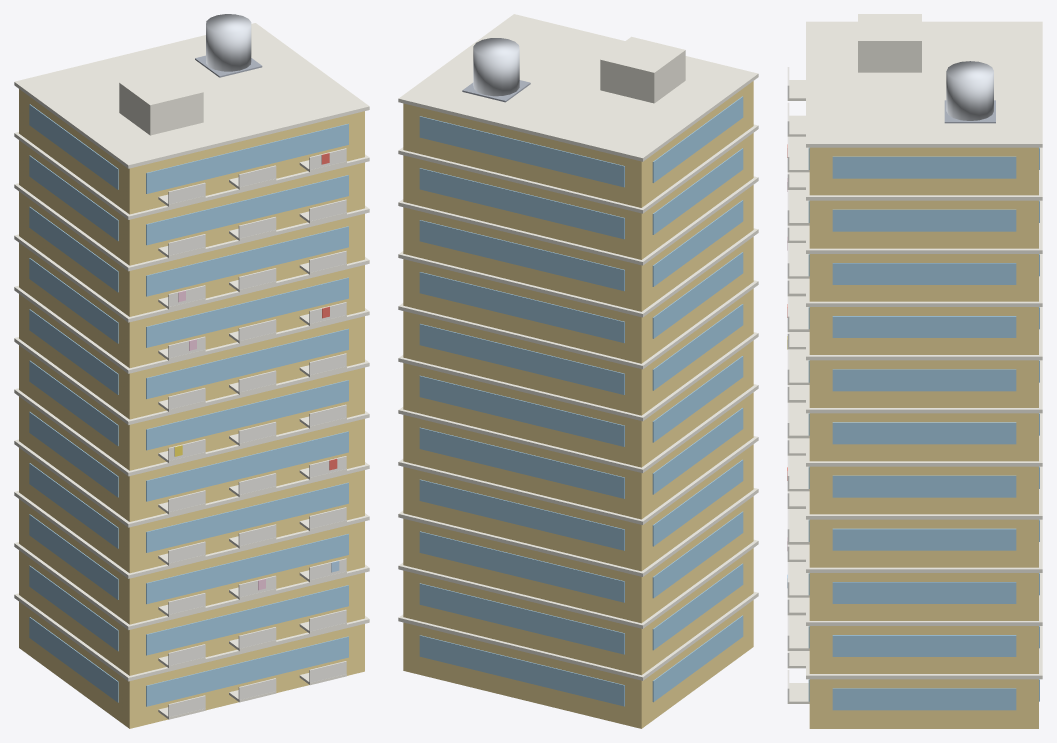
Rendered from Bld_CondoC.fbx.
The picture shows the model from 3 angles, left to right: view 1: azimuth 30°, elevation 25°; view 2: azimuth 150°, elevation 25°; view 3: azimuth 270°, elevation 25°; orthographic projection. The views are drawn at different scales.
Parts seen in each view (by area): view 1: Bld_CondoC; view 2: Bld_CondoC; view 3: Bld_CondoC.
Boxes of the visible parts, x1,y1,x2,y2 form: Bld_CondoC: (14, 14, 369, 728); Bld_CondoC: (398, 14, 758, 728); Bld_CondoC: (787, 14, 1042, 728).
Size of the model in its own units: 15.77 by 37.8 by 13.94.
